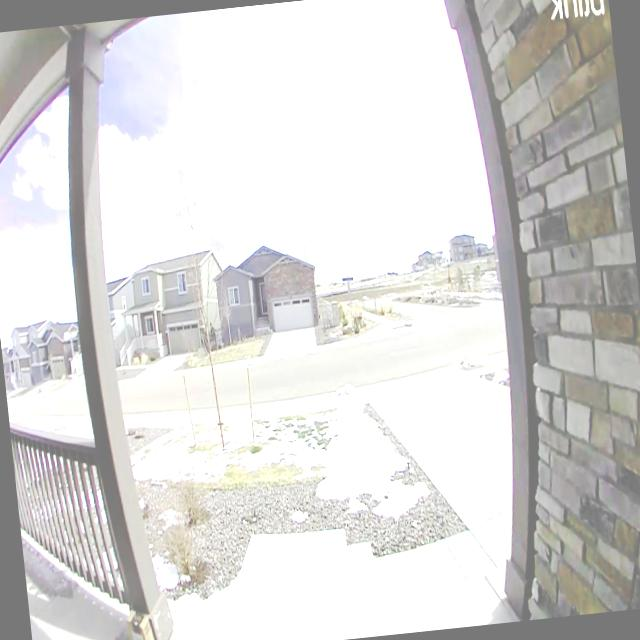Box: (122, 604, 159, 640)
